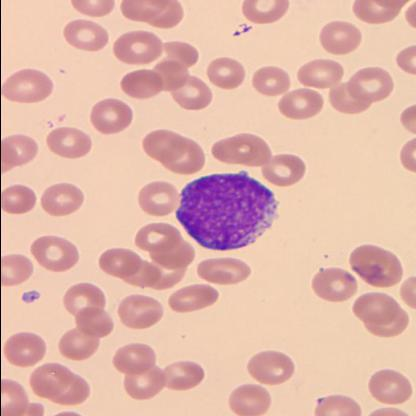Promyelocyte: (176, 172, 280, 250)
